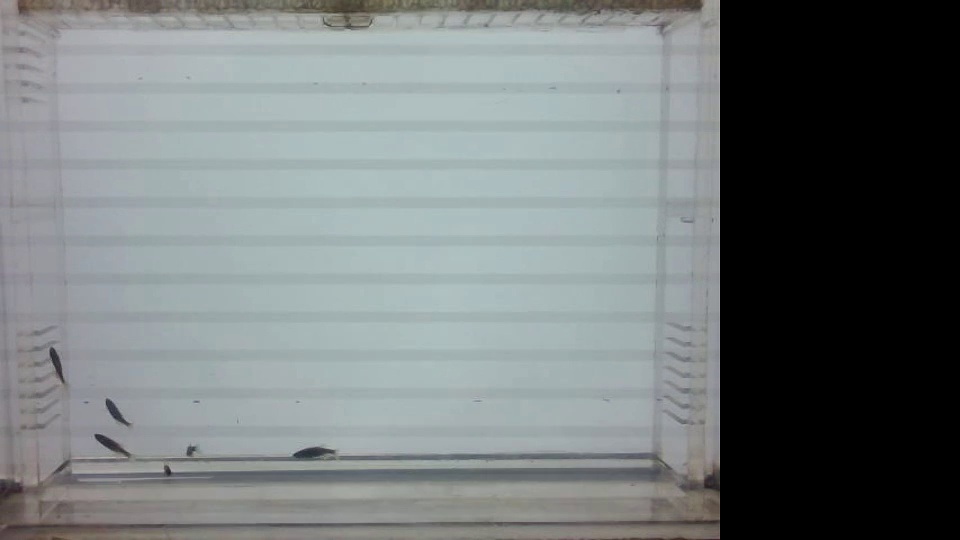fish: (96, 396, 136, 432), (44, 340, 69, 392), (88, 432, 133, 460), (284, 444, 344, 462), (176, 436, 201, 461), (156, 460, 176, 478)
